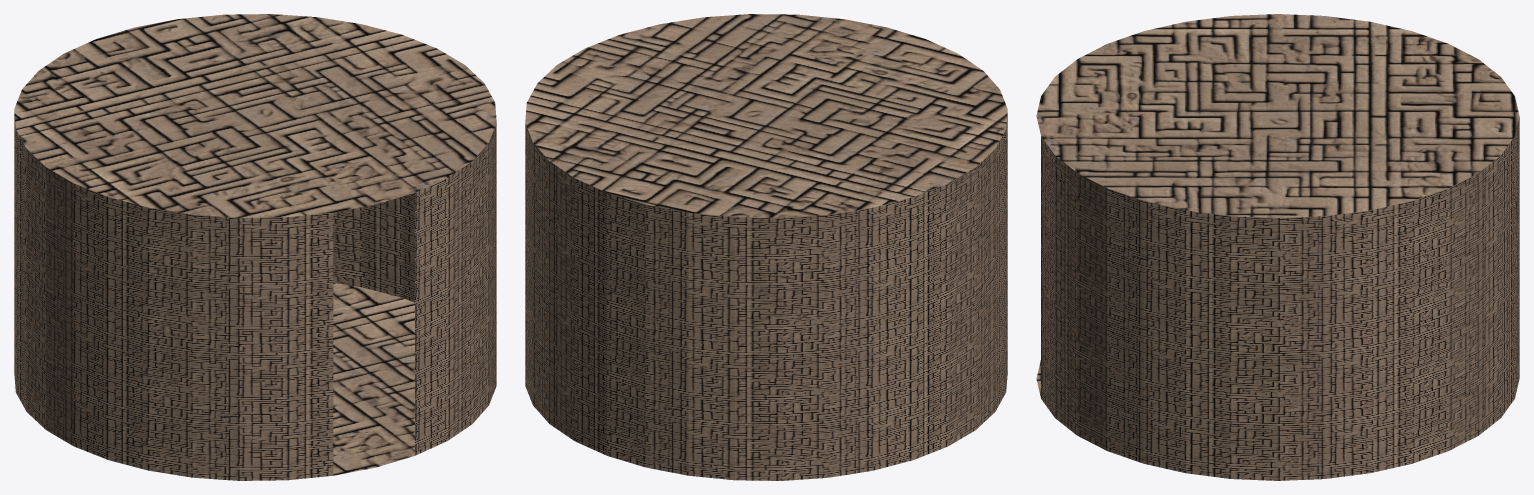
Rendered from idolroom.fbx.
The picture shows the model from 3 angles, left to right: view 1: azimuth 30°, elevation 25°; view 2: azimuth 150°, elevation 25°; view 3: azimuth 270°, elevation 25°; orthographic projection.
Visible parts, largest first — view 1: Cylinder; view 2: Cylinder; view 3: Cylinder.
Boxes of the visible parts, left/top/right/bottom form: Cylinder: left=14, top=14, right=496, bottom=480; Cylinder: left=525, top=14, right=1007, bottom=480; Cylinder: left=1036, top=14, right=1519, bottom=480.
Size of the model in its own units: 1197 by 719 by 1197.
3 materials, 3 textured.
